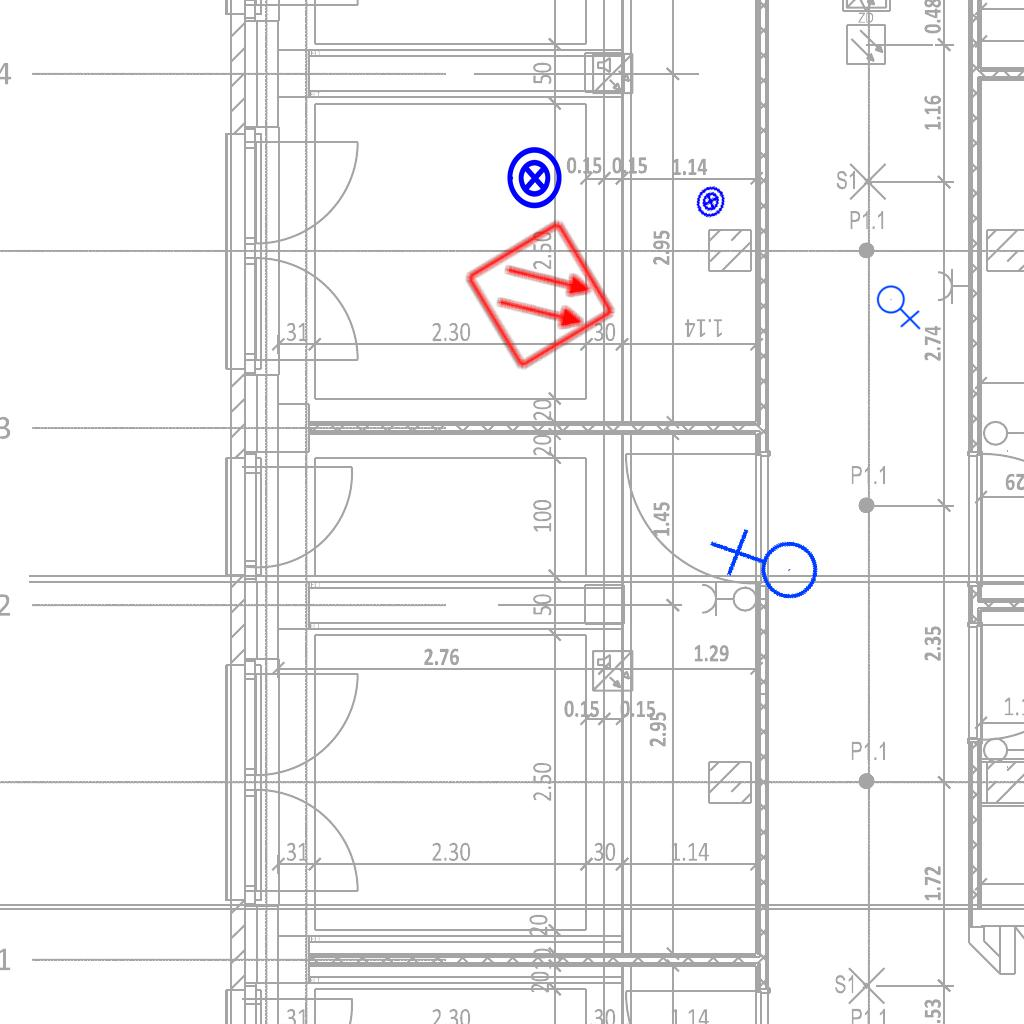Elektroanschluss_allgemein_230V_Geraeteanschlussdose_230V: (704, 501, 833, 633), (876, 281, 923, 330)
RMO_Rauchmelder_optischer: (462, 216, 619, 373)
Taster_beleuchtet: (502, 145, 568, 211), (689, 180, 732, 223)
